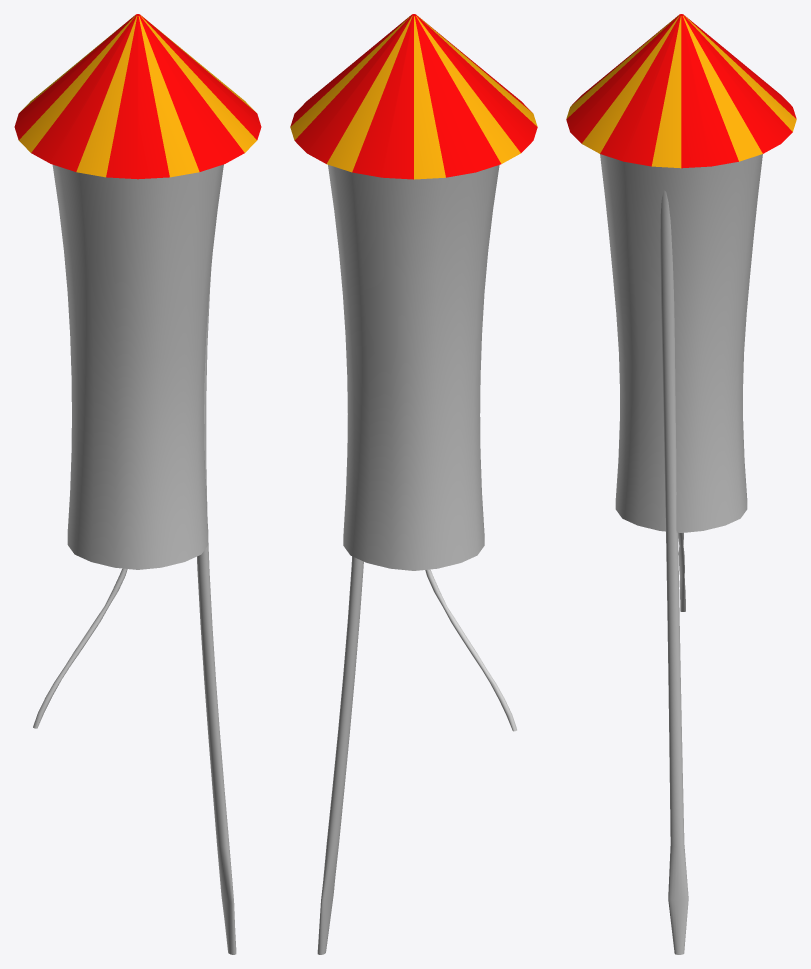
The model's file is fireworks_rocket.fbx.
3 views of the same model, side by side, from view 1: azimuth 30°, elevation 25°; view 2: azimuth 150°, elevation 25°; view 3: azimuth 270°, elevation 25° (orthographic). The views are drawn at different scales.
Parts seen in each view (by area): view 1: rocket_barrel, rocket_head, rocket_stick, rocket_firestring; view 2: rocket_barrel, rocket_head, rocket_stick, rocket_firestring; view 3: rocket_barrel, rocket_head, rocket_stick.
Boxes of the visible parts, bbox=[...] form: rocket_barrel: bbox=[52, 164, 223, 569]; rocket_head: bbox=[14, 14, 261, 179]; rocket_stick: bbox=[197, 270, 236, 954]; rocket_firestring: bbox=[33, 568, 127, 728]; rocket_barrel: bbox=[328, 165, 499, 570]; rocket_head: bbox=[290, 14, 537, 179]; rocket_stick: bbox=[317, 556, 363, 954]; rocket_firestring: bbox=[425, 569, 516, 731]; rocket_barrel: bbox=[600, 154, 762, 532]; rocket_head: bbox=[566, 14, 796, 168]; rocket_stick: bbox=[660, 190, 688, 954].
Size of the model in its own units: 80 by 343 by 80.
